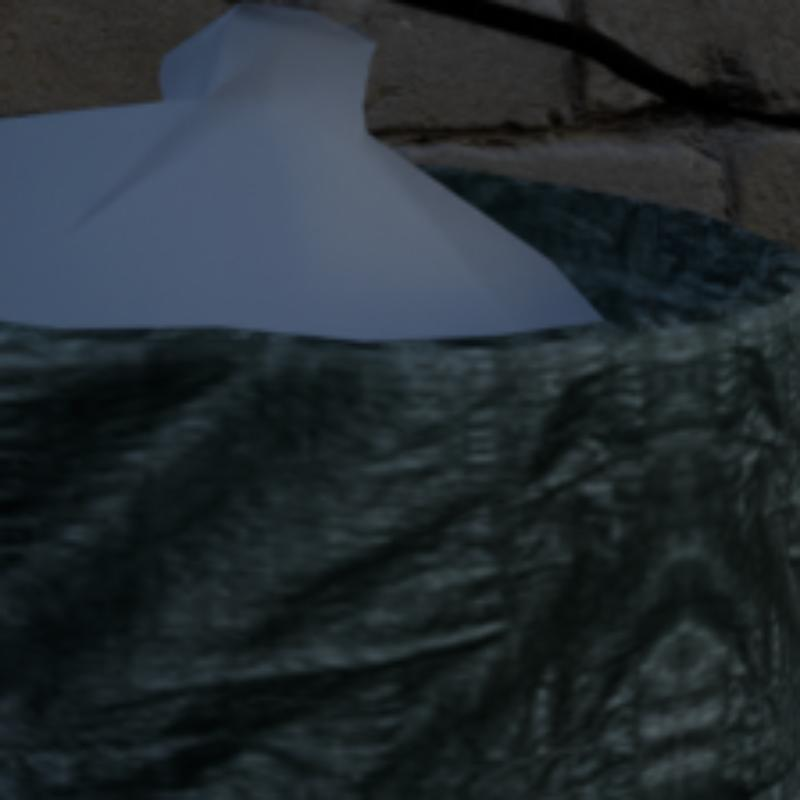pothole: (389, 0, 796, 129)
